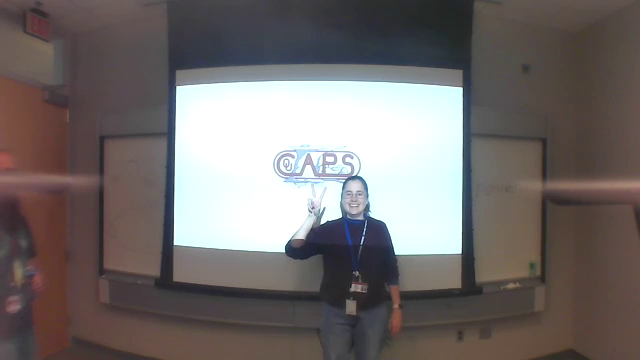peace: (304, 182, 332, 219)
